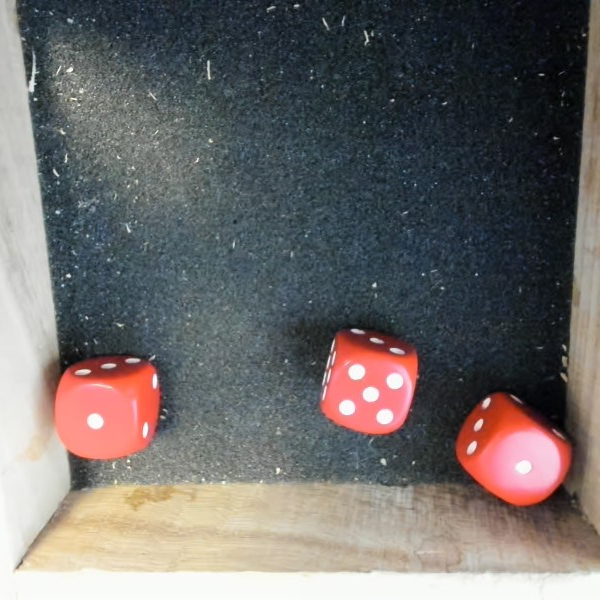red_die_pip1: (439, 371, 591, 522), (52, 350, 164, 466)
red_die_pip5: (306, 313, 435, 444)
